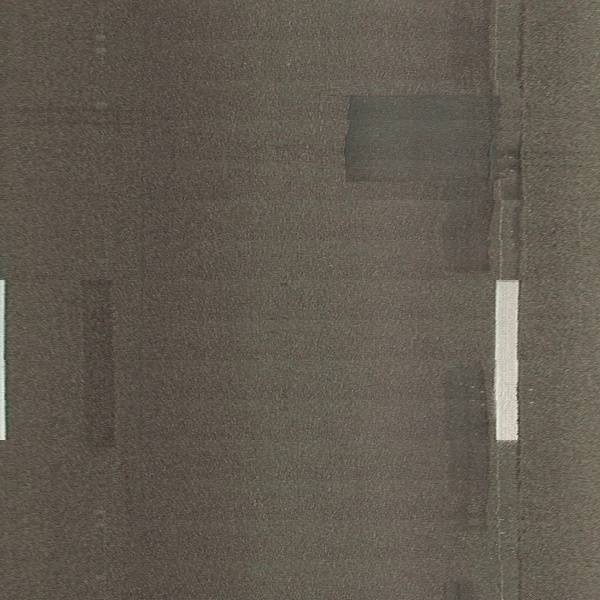road_damage: (342, 92, 502, 201)
